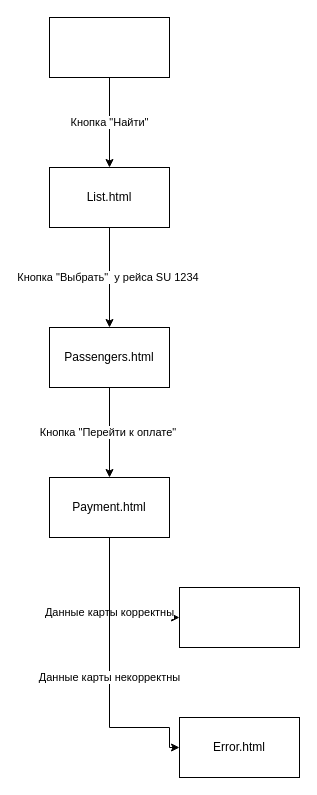
Image size: 317x795. Some labels were removed from this diagram. Here are the shapes that lost their labels. From the top down, the centre of each, then its label:
At [109,47]: "Search.html".
At [239,617]: "Success.html".
